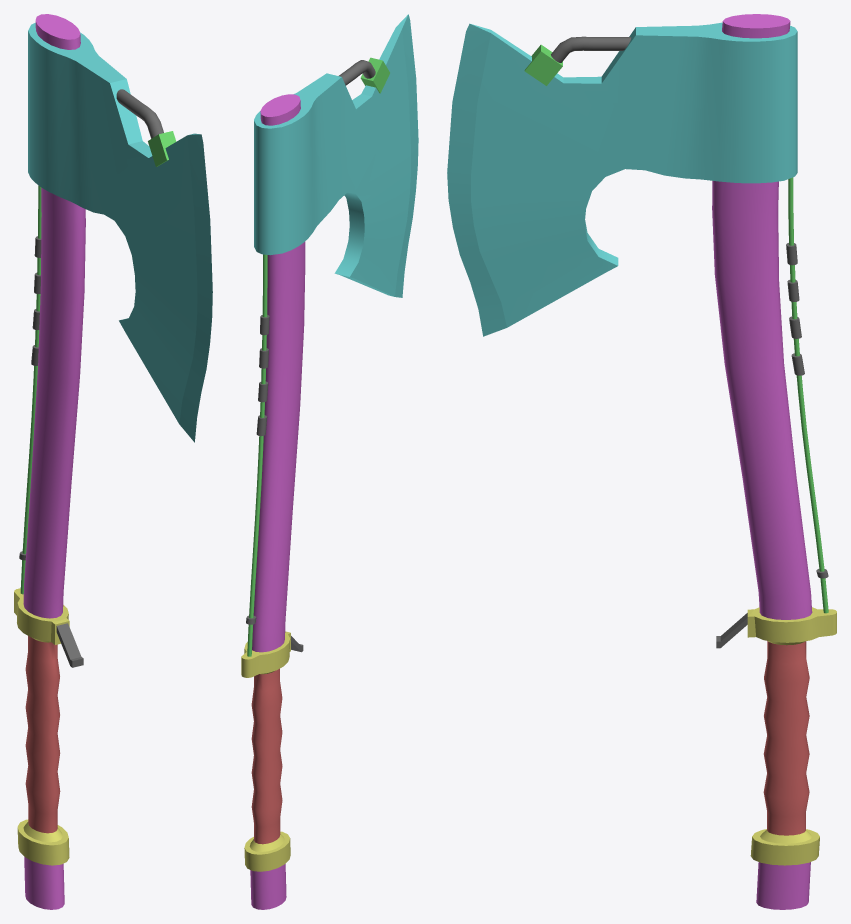
The model's file is Melee_Axe.fbx.
3 renders of one model, left to right at view 1: azimuth 30°, elevation 25°; view 2: azimuth 150°, elevation 25°; view 3: azimuth 270°, elevation 25°, orthographic. The views are drawn at different scales.
Parts seen in each view (by area): view 1: Melee_Axe; view 2: Melee_Axe; view 3: Melee_Axe.
Boxes of the visible parts, x1,y1,x2,y2 form: Melee_Axe: [14, 14, 212, 909]; Melee_Axe: [241, 14, 418, 909]; Melee_Axe: [447, 14, 836, 909].
Size of the model in its own units: 0.0553 by 1.08 by 0.4335.
